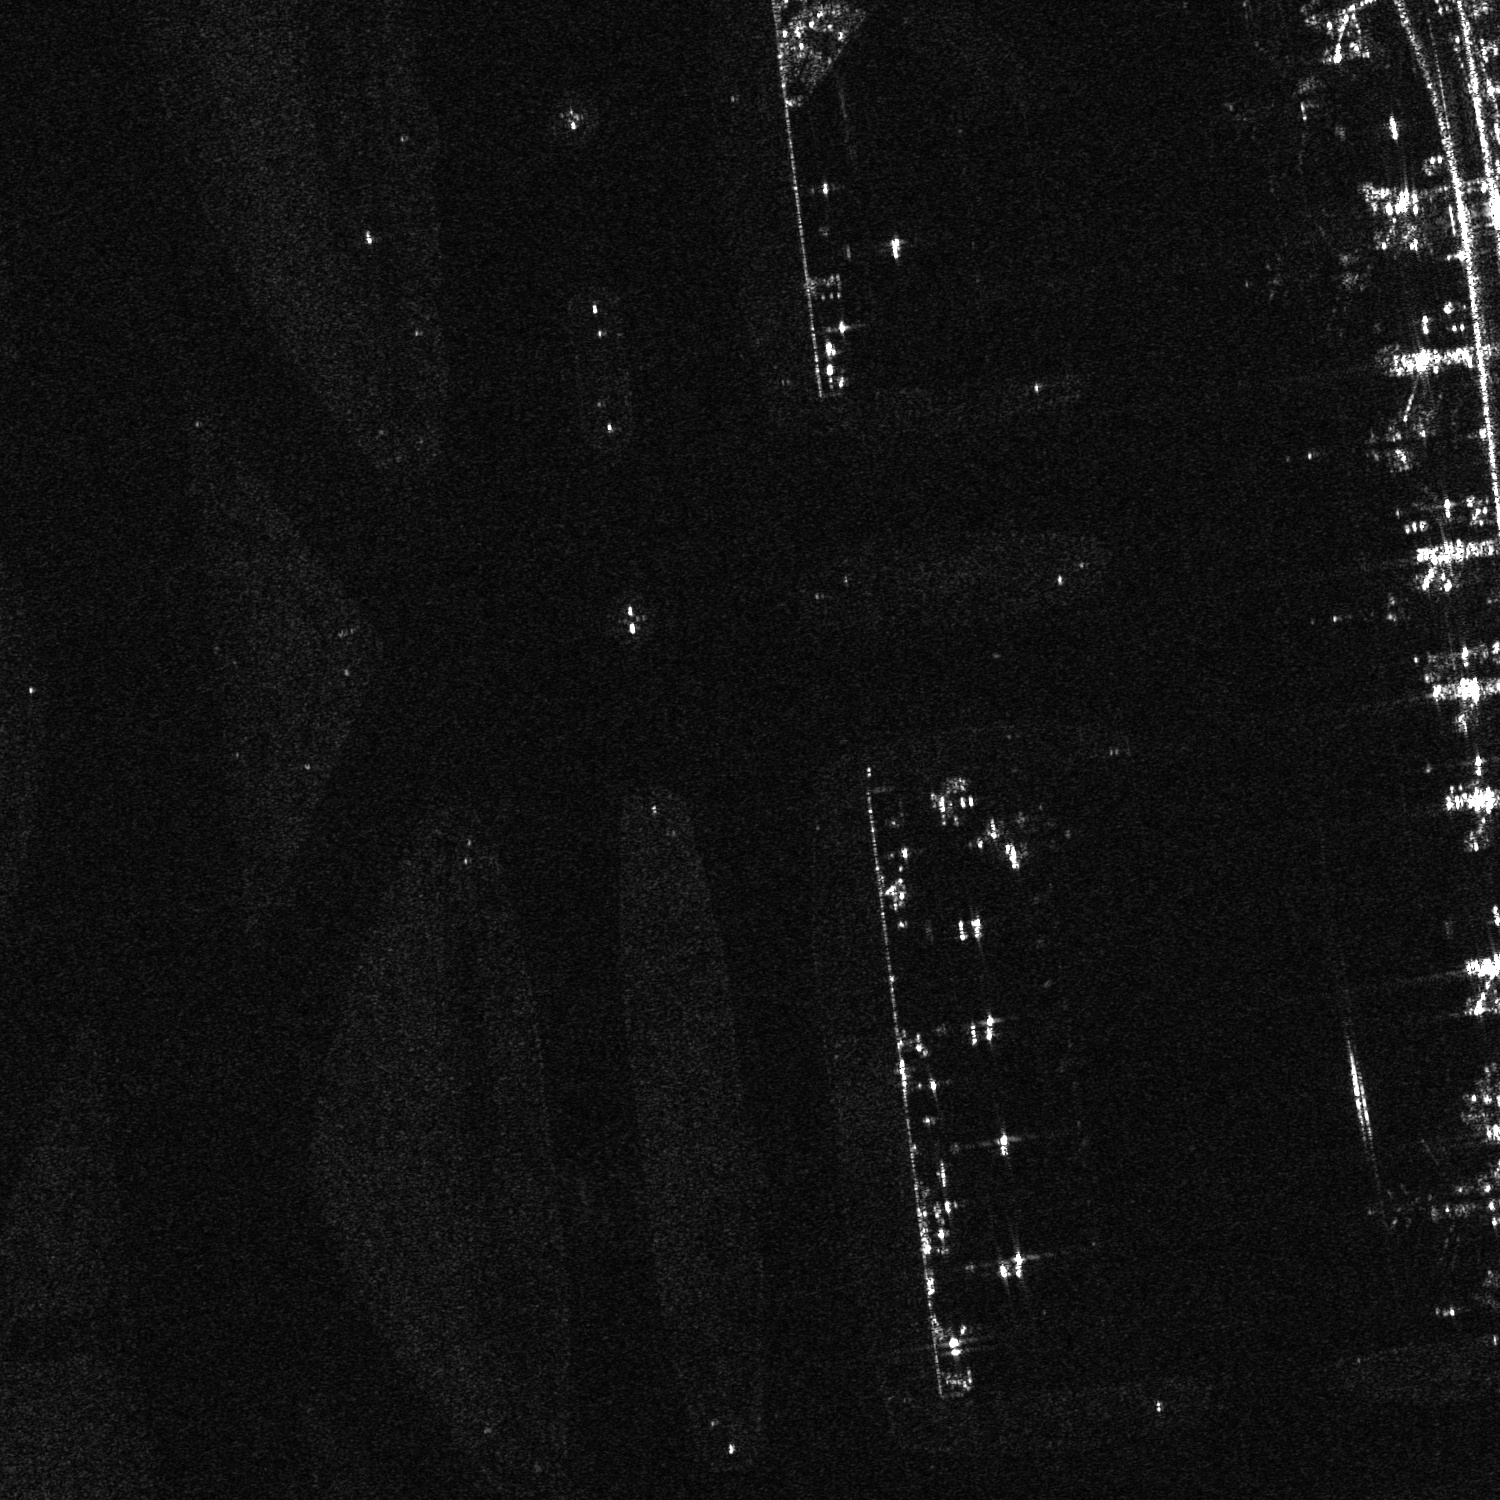A330: (1368, 1144, 1484, 1266)
Boeing787: (1224, 36, 1330, 152)
other: (1258, 209, 1380, 326)
